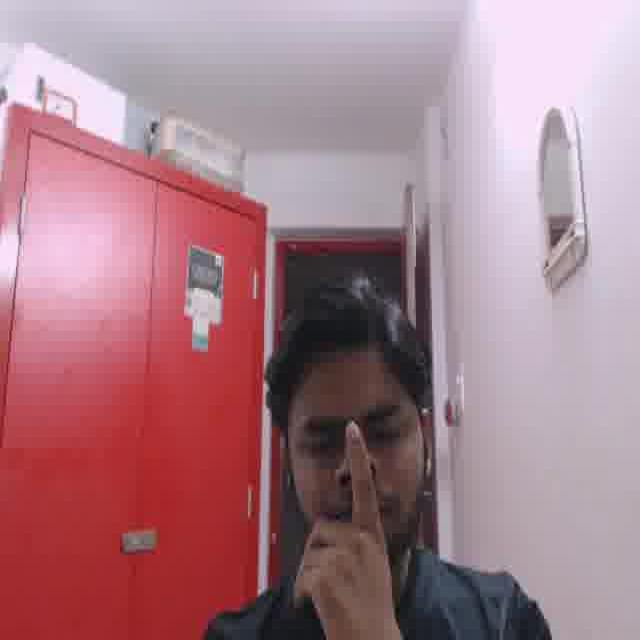Frustration: (280, 348, 418, 568)
